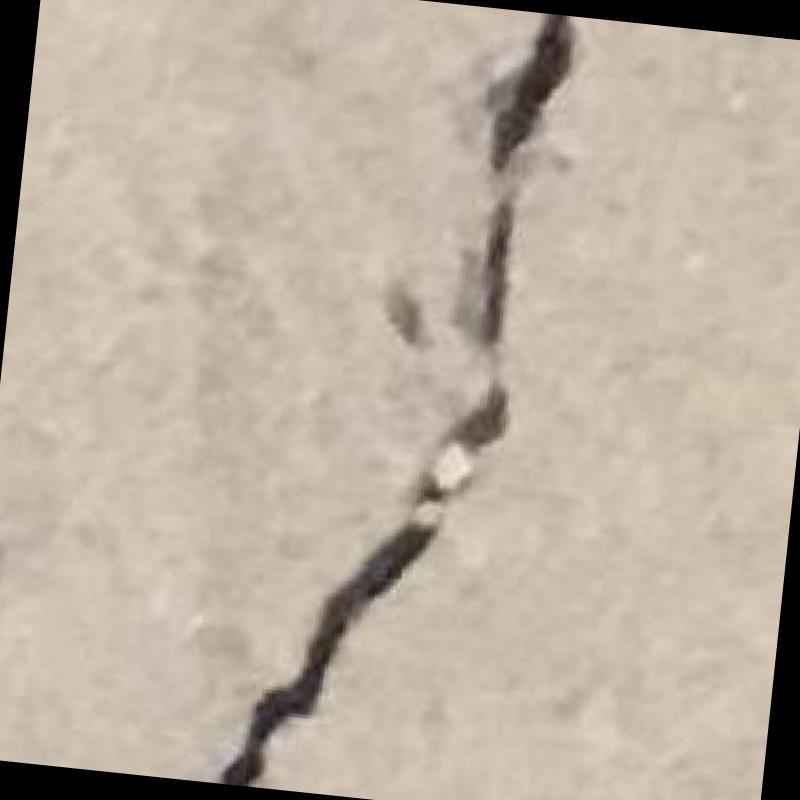crack: (217, 13, 574, 785)
